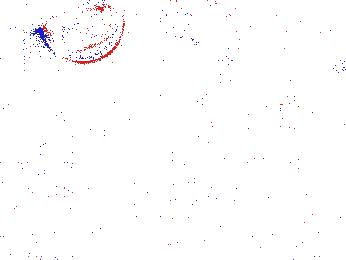moon jellyfish: (270, 56, 346, 133), (37, 1, 126, 64), (158, 1, 241, 61), (174, 10, 263, 47), (1, 1, 33, 92)
